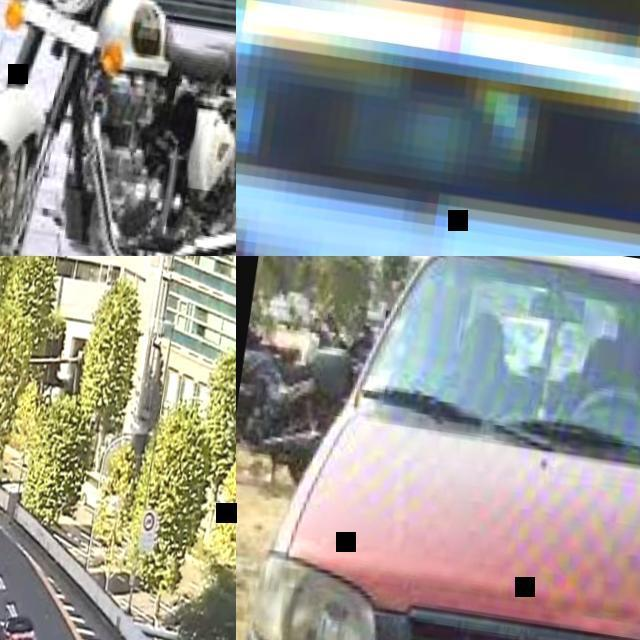car: (0, 0, 90, 223)
